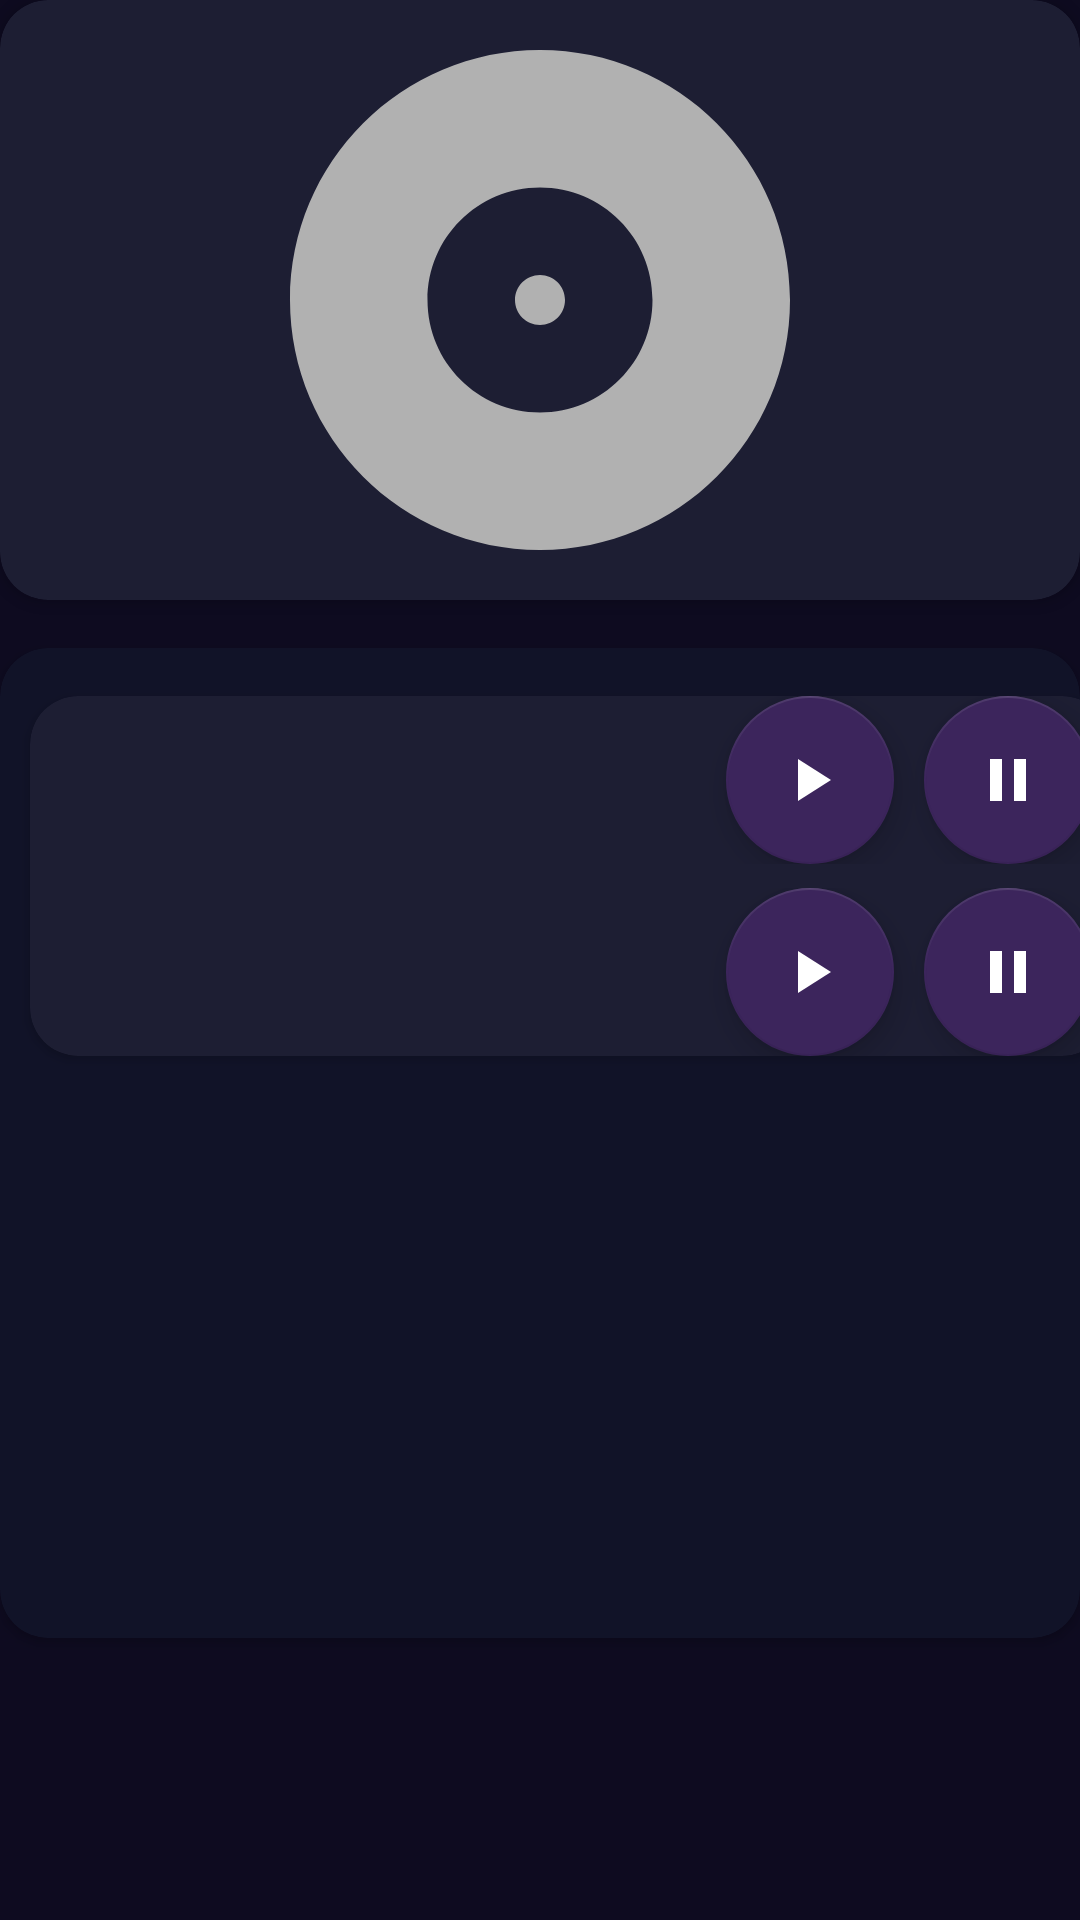

Where icons sit on this 1080x1920 app screen, as [x1, y1, x2, y2]:
Iniciar Canción: [726, 696, 894, 864], [726, 888, 894, 1056]
Pausar Canción: [924, 696, 1080, 864], [924, 888, 1080, 1056]
